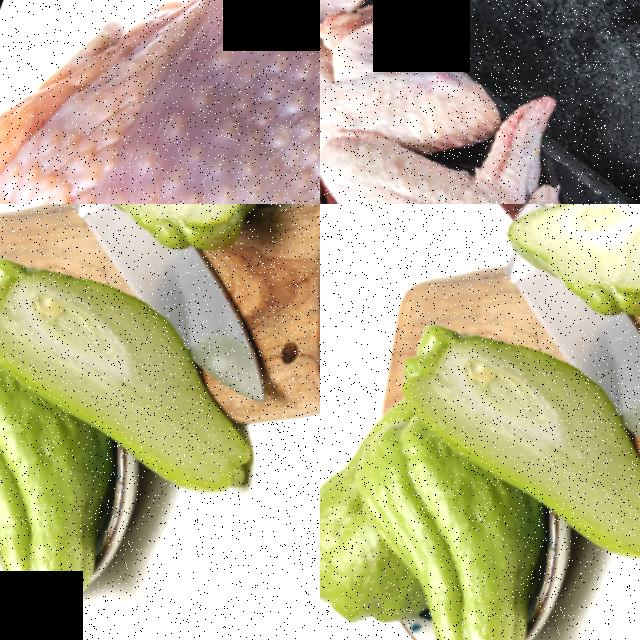chayote: (0, 219, 283, 499), (383, 285, 640, 565), (353, 424, 593, 640), (0, 358, 161, 581), (38, 204, 320, 314), (470, 204, 640, 380), (320, 477, 407, 640)
chicken thigh: (0, 0, 320, 204)
chicken wing: (320, 23, 594, 204), (320, 0, 416, 136)
